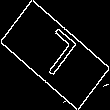L_SW: (29, 26, 81, 84)
